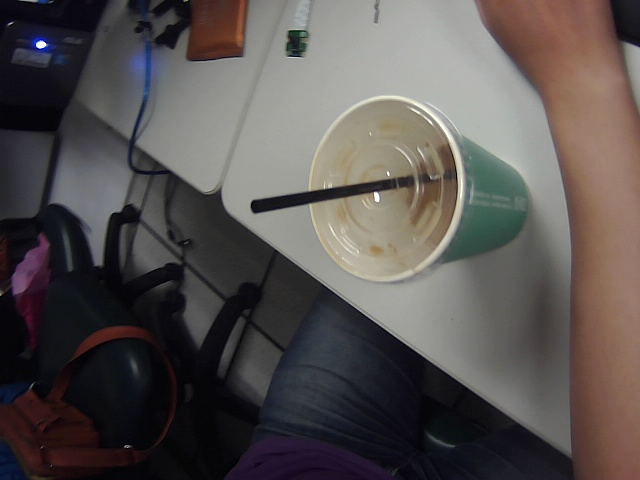beverage: (244, 90, 547, 302)
